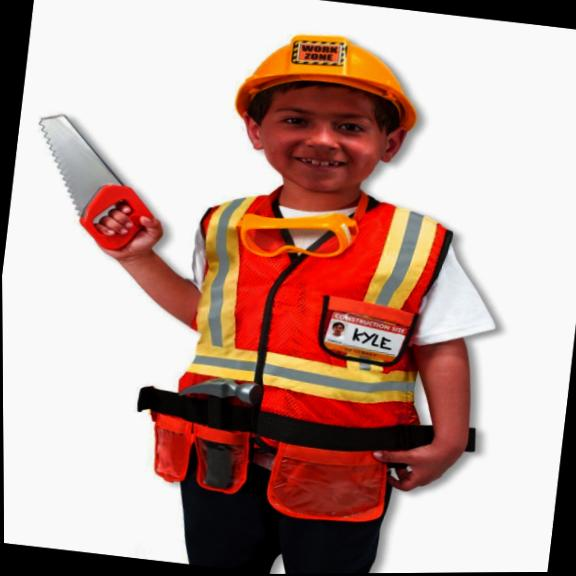safety_vest: (164, 192, 473, 522)
